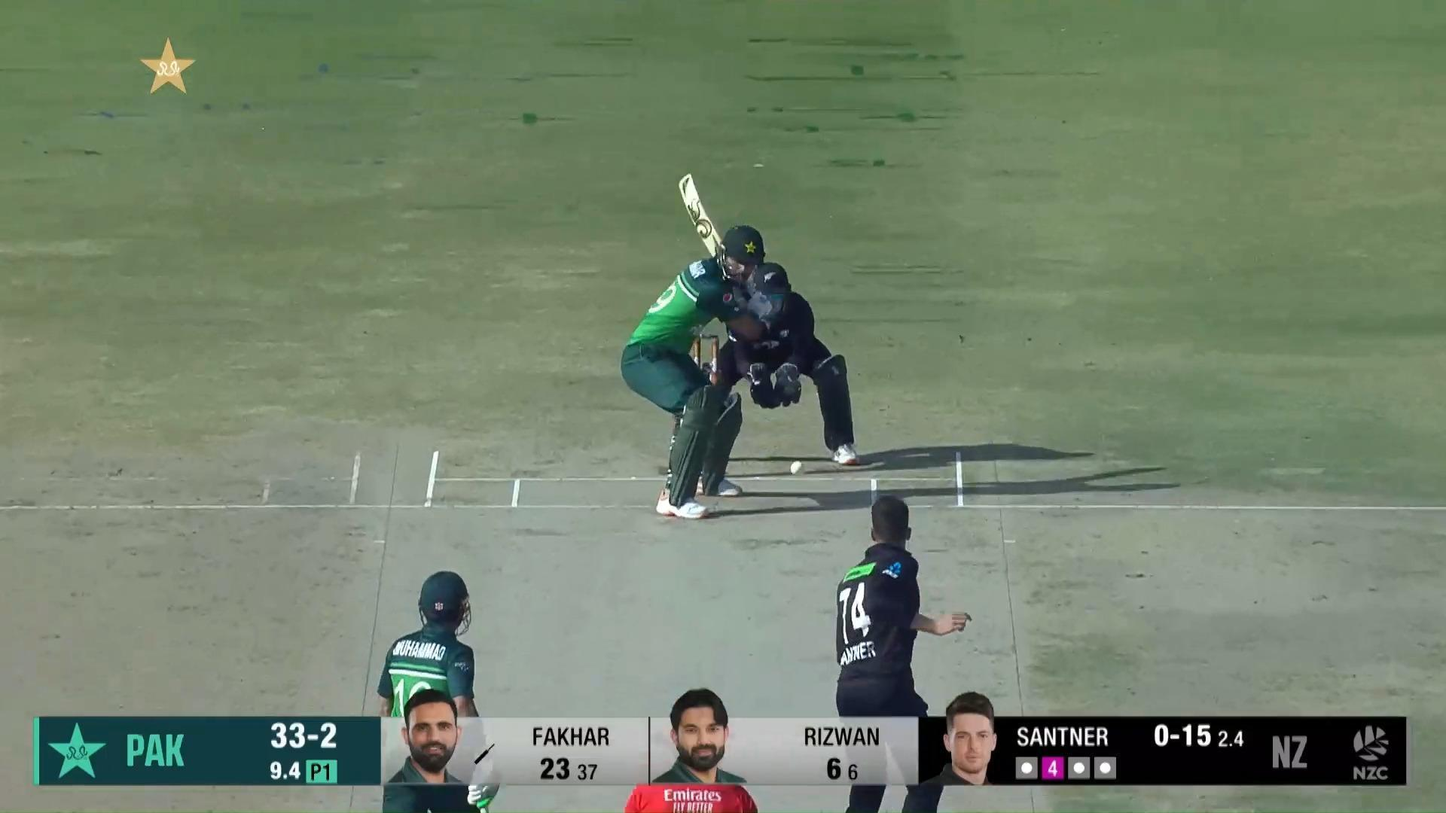BM 1: (621, 173, 774, 520)
BO: (834, 492, 977, 813)
